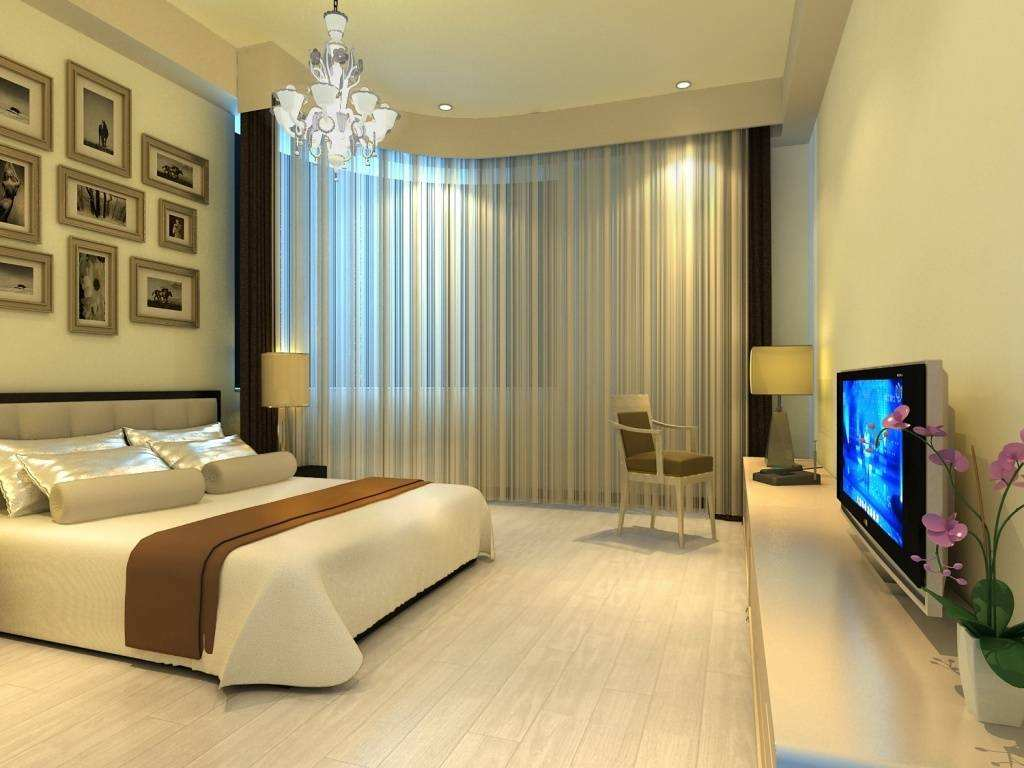床: (0, 464, 501, 694)
枕头: (0, 425, 299, 525)
灯: (270, 7, 399, 185), (753, 343, 828, 473), (253, 345, 314, 464), (431, 99, 457, 117), (672, 78, 696, 96)
